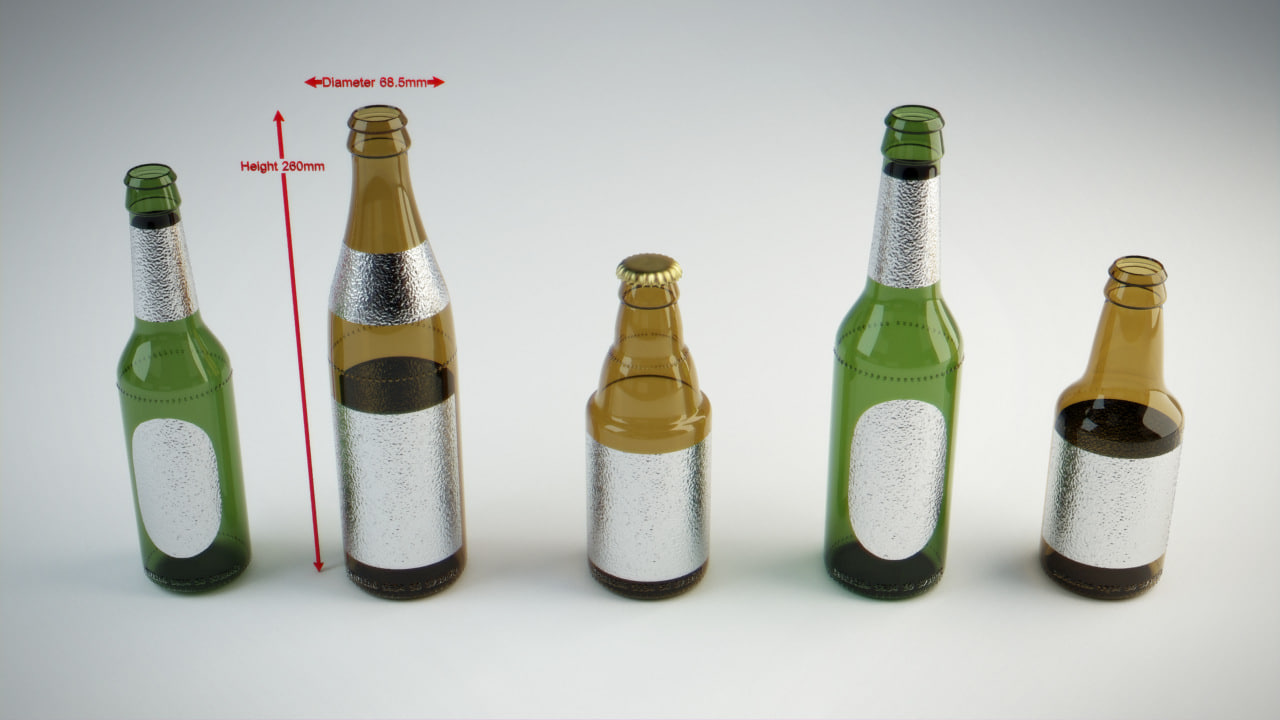bottle: (77, 150, 278, 599), (319, 96, 496, 605), (1013, 212, 1206, 615), (833, 87, 973, 599), (575, 228, 745, 601)
